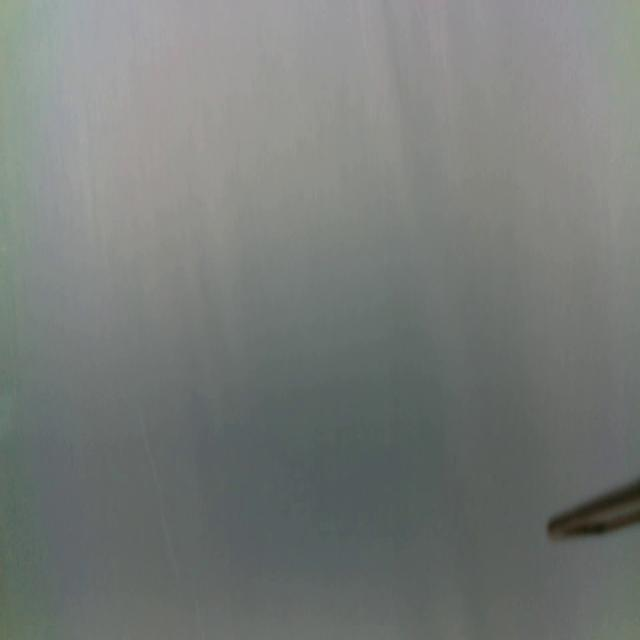crease: (138, 409, 183, 579)
